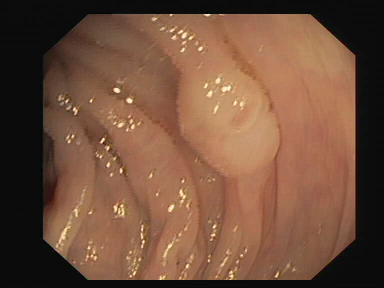polyp: (150, 52, 314, 183)
